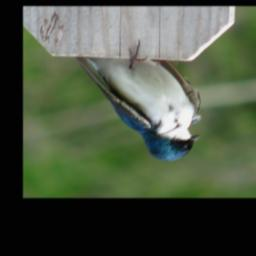Swallow: (73, 39, 203, 163)
